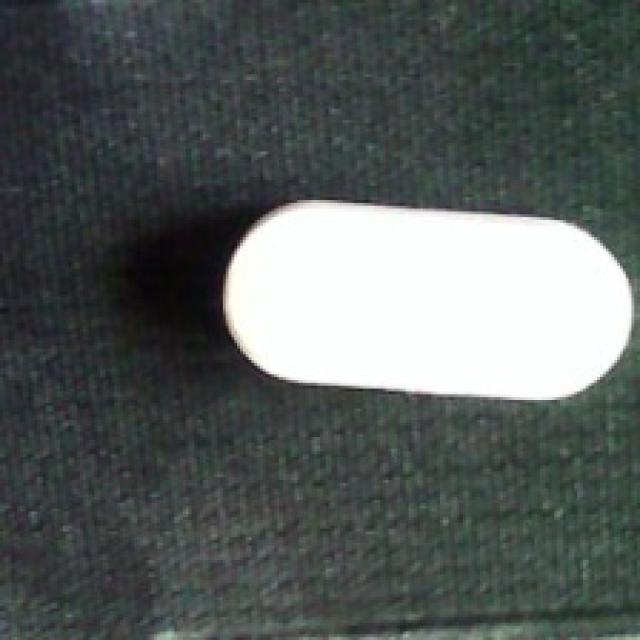no-defect: (217, 197, 637, 406)
